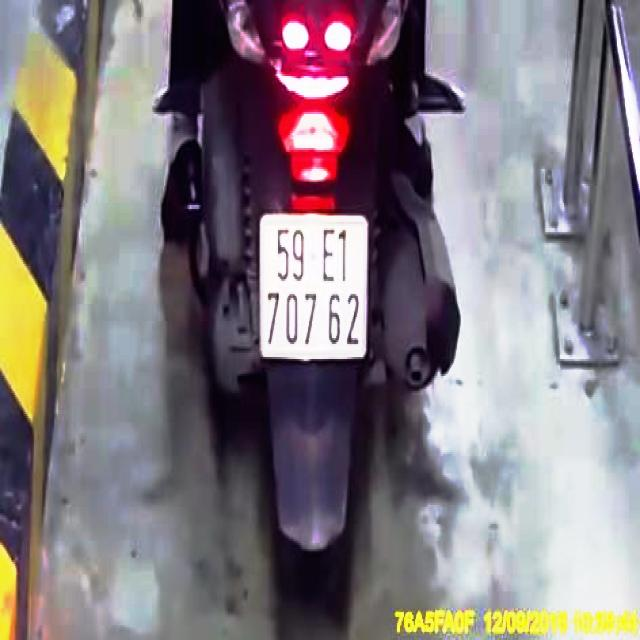license_plate: (260, 216, 369, 356)
